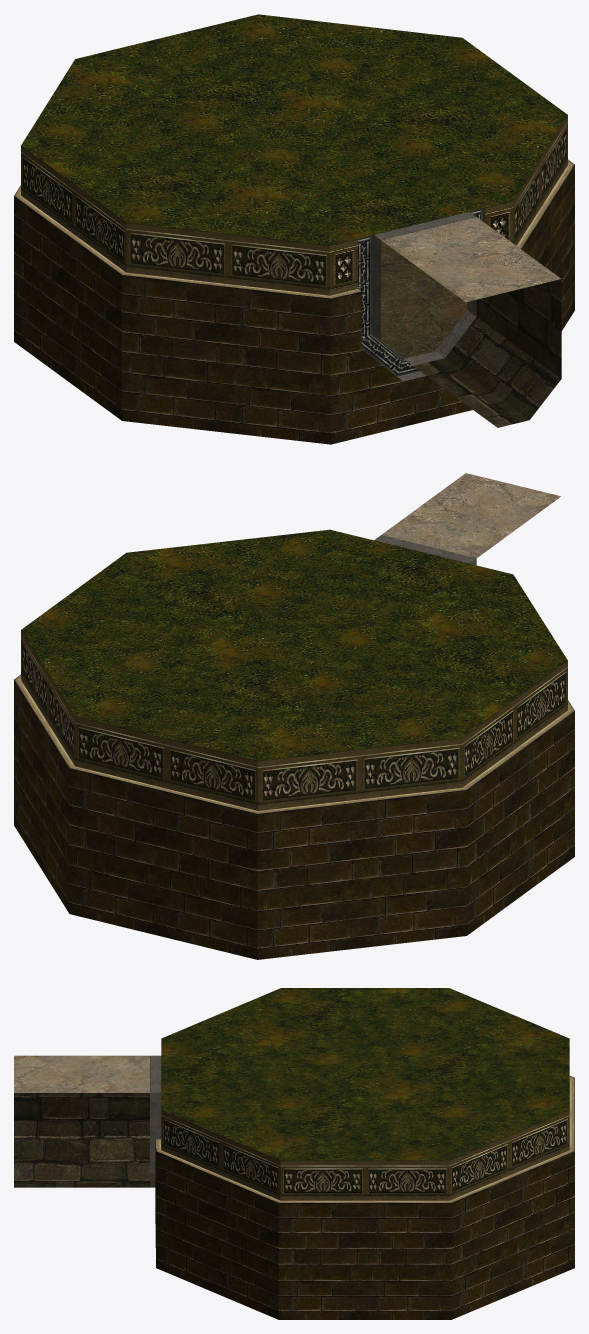
3 views of the same model, one above another, from view 1: azimuth 30°, elevation 25°; view 2: azimuth 150°, elevation 25°; view 3: azimuth 270°, elevation 25° (orthographic). The views are drawn at different scales.
Parts seen in each view (by area): view 1: node-0342904B, node-0150DC07, node-023800F8, node-03D7BC40, node-03CD5570, node-017AC31D, node-03F808BA, node-03B84E91, node-02959E41; view 2: node-0342904B, node-0150DC07, node-023800F8, node-03CD5570, node-03F808BA; view 3: node-0342904B, node-0150DC07, node-023800F8, node-03D7BC40, node-03CD5570, node-03F808BA.
Part boxes in pixels (<box>): node-0342904B: <box>21,14,567,245</box>; node-0150DC07: <box>14,165,574,444</box>; node-023800F8: <box>14,115,574,298</box>; node-03D7BC40: <box>413,279,561,427</box>; node-03CD5570: <box>381,217,560,302</box>; node-017AC31D: <box>381,240,467,358</box>; node-03F808BA: <box>371,208,485,381</box>; node-03B84E91: <box>358,208,483,376</box>; node-02959E41: <box>330,201,513,298</box>; node-0342904B: <box>21,529,567,760</box>; node-0150DC07: <box>14,680,574,959</box>; node-023800F8: <box>14,630,574,813</box>; node-03CD5570: <box>381,473,560,558</box>; node-03F808BA: <box>374,535,476,565</box>; node-0342904B: <box>161,988,569,1160</box>; node-0150DC07: <box>155,1143,574,1319</box>; node-023800F8: <box>156,1076,574,1202</box>; node-03D7BC40: <box>14,1093,149,1187</box>; node-03CD5570: <box>14,1055,149,1092</box>; node-03F808BA: <box>150,1055,161,1187</box>.
Bounding box in the file's own units: 224 × 92.52 × 300.
Materials: 9 (9 with a texture image).
